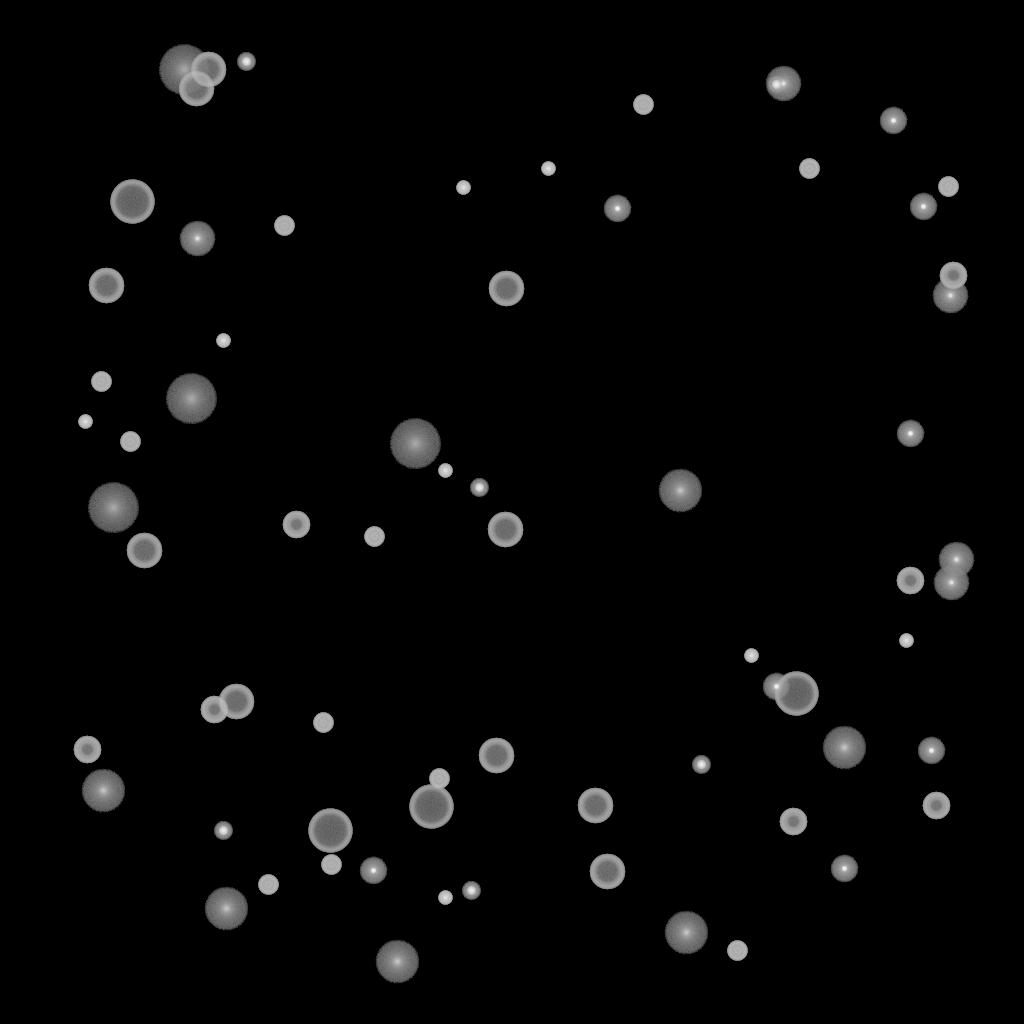depth:-10: (909, 193, 937, 221), (917, 737, 945, 765), (603, 195, 631, 223), (359, 857, 387, 885), (896, 420, 924, 448), (879, 107, 907, 135), (830, 855, 858, 883), (762, 673, 790, 701)
depth:-20: (214, 822, 232, 840), (767, 76, 785, 94), (462, 882, 480, 900), (692, 756, 710, 774), (470, 479, 488, 497), (237, 53, 255, 71)
depth:-30: (438, 464, 452, 478), (744, 649, 758, 663), (541, 162, 555, 176), (456, 181, 470, 195), (438, 891, 452, 905), (216, 334, 230, 348), (899, 634, 913, 648), (78, 415, 92, 429)
depth:-40: (258, 875, 278, 895), (799, 159, 819, 179), (120, 432, 140, 452), (429, 769, 449, 789), (321, 855, 341, 875), (364, 527, 384, 547), (727, 941, 747, 961), (91, 372, 111, 392), (274, 216, 294, 236), (633, 95, 653, 115), (313, 713, 333, 733), (938, 177, 958, 197)
depth:-50: (779, 808, 807, 836), (922, 792, 950, 820), (73, 736, 101, 764), (939, 262, 967, 290), (896, 567, 924, 595), (282, 511, 310, 539), (200, 696, 228, 724)
depth:-60: (577, 788, 613, 824), (190, 52, 226, 88), (126, 533, 162, 569), (178, 71, 214, 107), (589, 854, 625, 890), (487, 512, 523, 548), (488, 271, 524, 307), (218, 684, 254, 720), (88, 268, 124, 304), (478, 738, 514, 774)
depth:-70: (110, 180, 154, 224), (308, 809, 352, 853), (774, 672, 818, 716), (409, 785, 453, 829)
depth:0: (938, 542, 974, 578), (179, 221, 215, 257), (932, 278, 968, 314), (933, 565, 969, 601), (765, 66, 801, 102)
depth:10: (664, 911, 708, 955), (822, 726, 866, 770), (81, 769, 125, 813), (204, 887, 248, 931), (658, 469, 702, 513), (375, 940, 419, 984)
depth:20: (158, 45, 210, 95), (87, 483, 139, 533), (165, 374, 217, 424), (389, 419, 441, 469)
